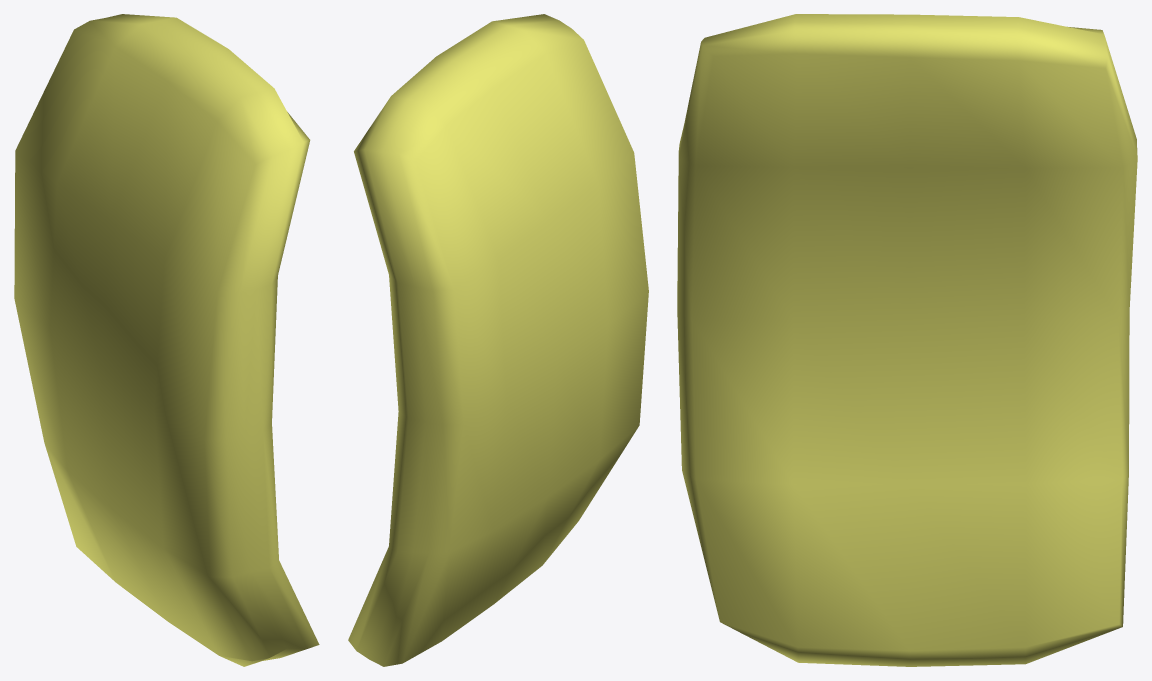
File: Electric.Piece.02.fbx
The picture shows the model from 3 angles, left to right: view 1: azimuth 30°, elevation 25°; view 2: azimuth 150°, elevation 25°; view 3: azimuth 270°, elevation 25°; orthographic projection. The views are drawn at different scales.
Parts seen in each view (by area): view 1: Elec.Piece.02; view 2: Elec.Piece.02; view 3: Elec.Piece.02.
Part boxes in pixels (x1=…): Elec.Piece.02: x1=14, y1=14, x2=319, y2=666; Elec.Piece.02: x1=348, y1=14, x2=648, y2=666; Elec.Piece.02: x1=677, y1=14, x2=1137, y2=666.
Size of the model in its own units: 73.75 by 300 by 198.
